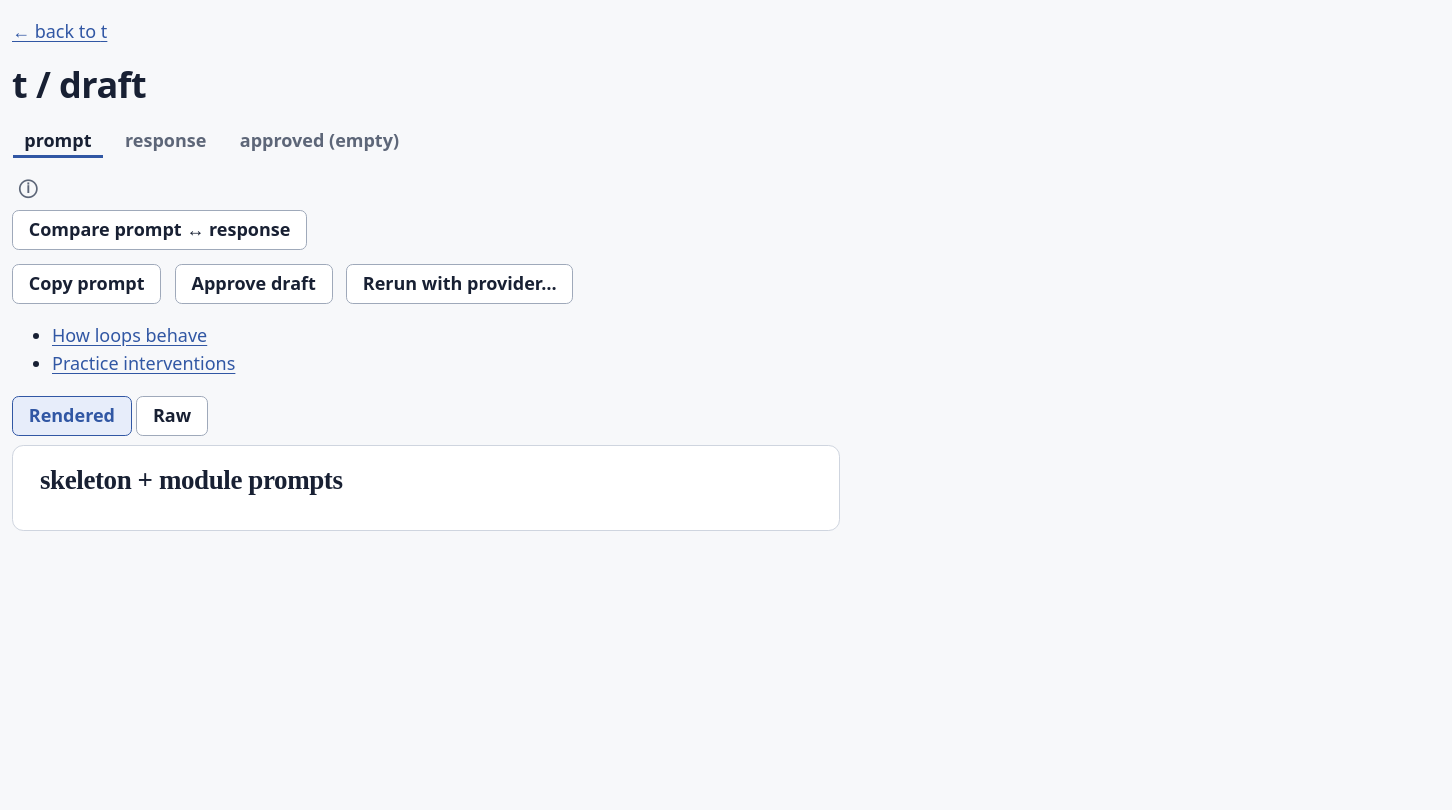
Test case: StageViewerPage › draft module anchors › gives the tree-mode module node an id the nav anchor can resolve to
Click the tab "response": coordinates (166, 141) [113, 123, 218, 159]
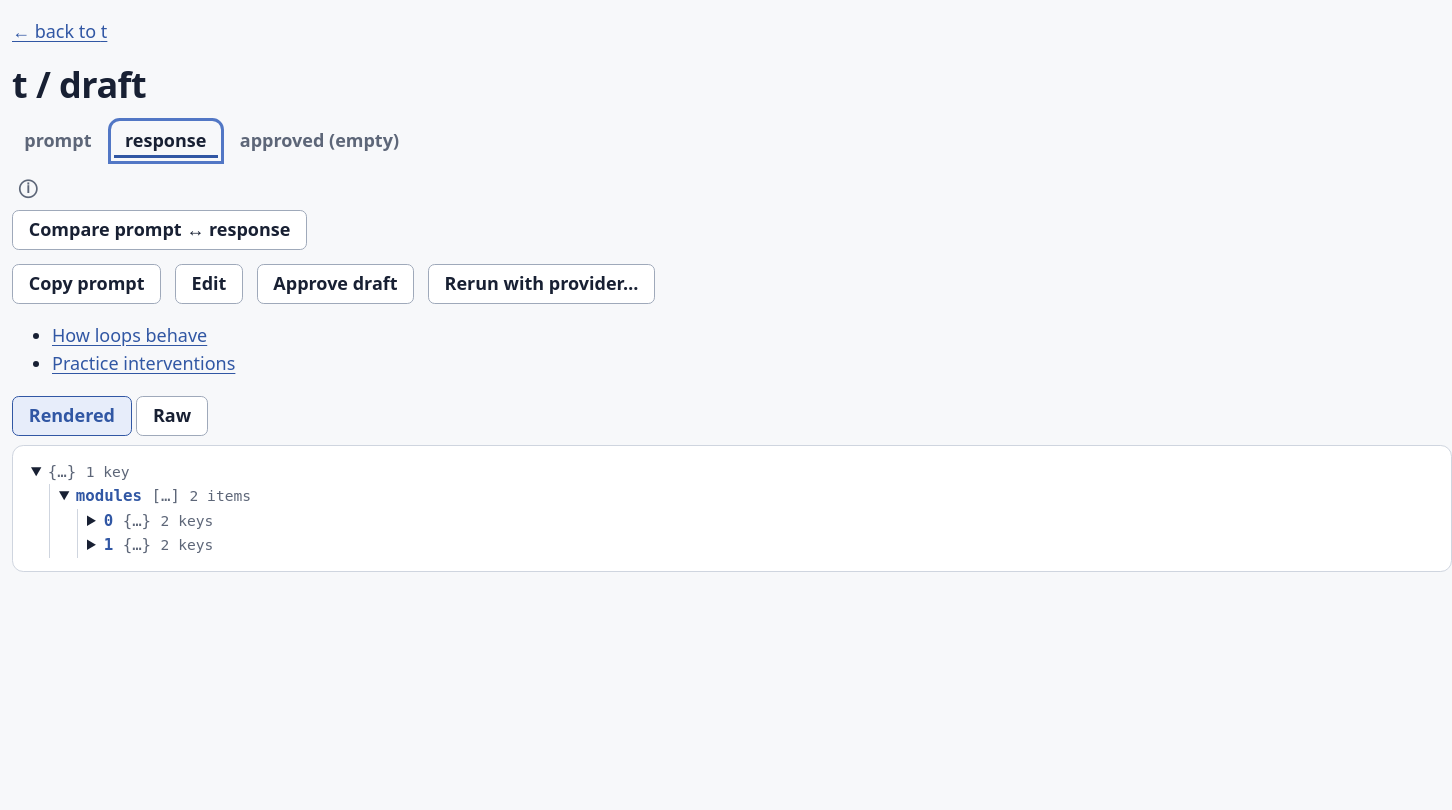
Expected: the text "modules" is shown, [76, 486, 152, 505]
Expected: the element with id "module-loop-basics" is shown, [104, 511, 213, 530]
